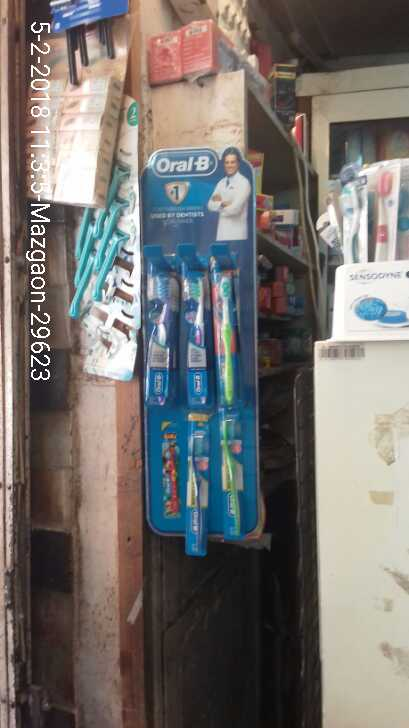oralb: (129, 253, 170, 393), (211, 413, 250, 536), (177, 417, 207, 558), (184, 278, 215, 402), (215, 274, 235, 399)
